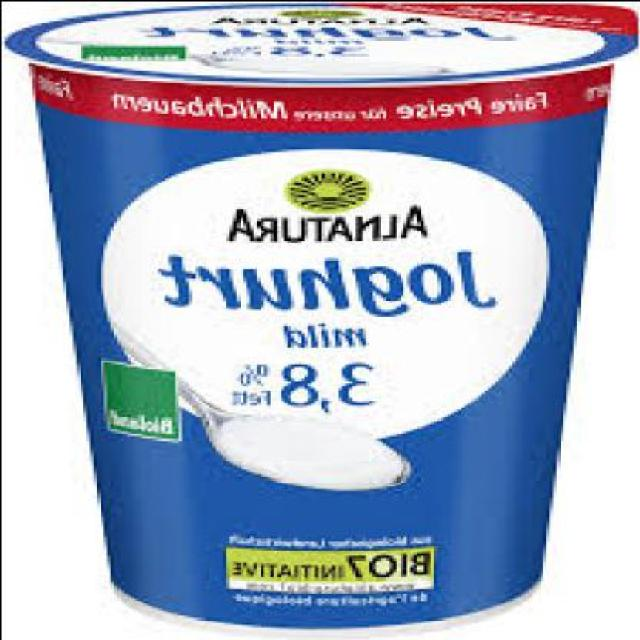PLASTIC: (6, 2, 639, 624)
